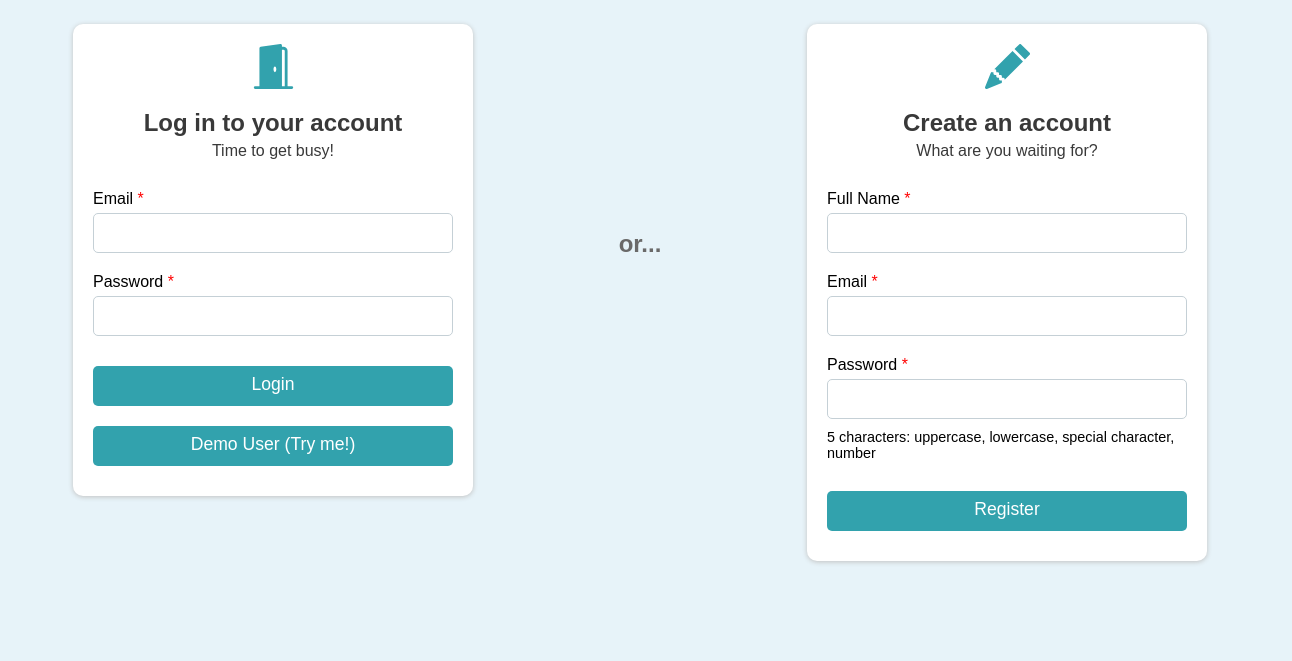
Test: lists › sets lists after fetch
The width and height of the screenshot is (1292, 661).
(page scrolled)
Click the button "Demo User (Try me!)".
click(273, 446)  # box [93,426,453,466]
(page scrolled)
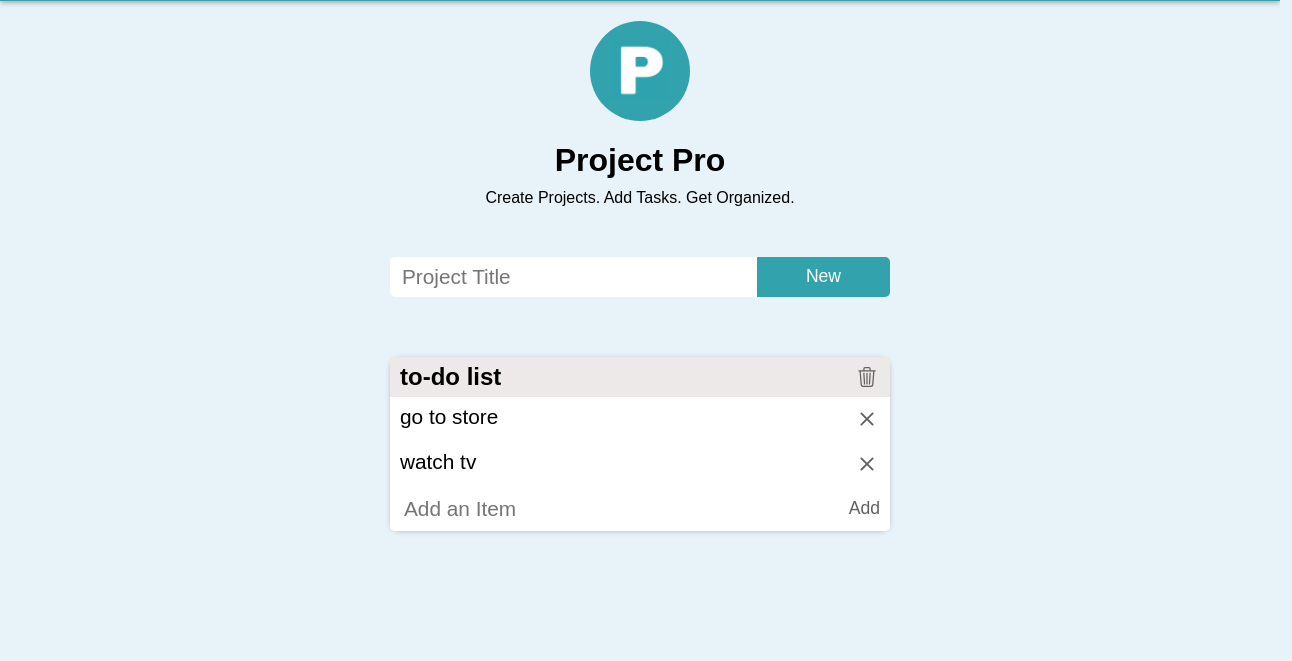
Check: the heading "to-do list" is shown, box [400,363,501,391]
